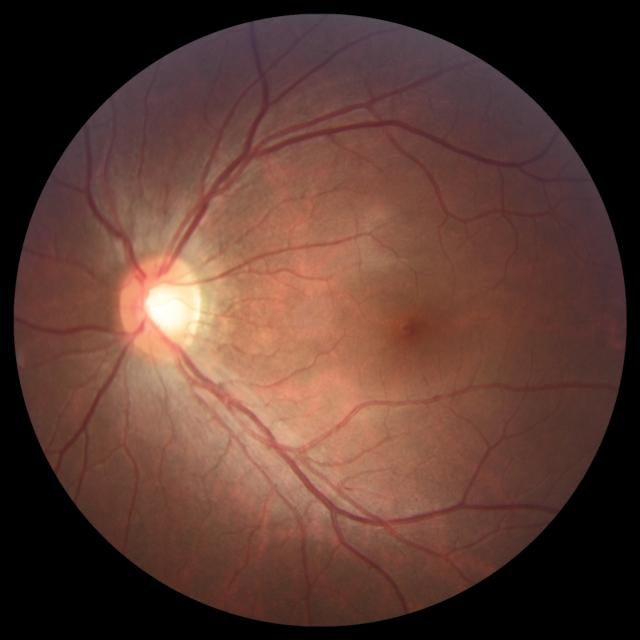OC: (139, 280, 185, 331)
OD: (117, 256, 200, 358)
